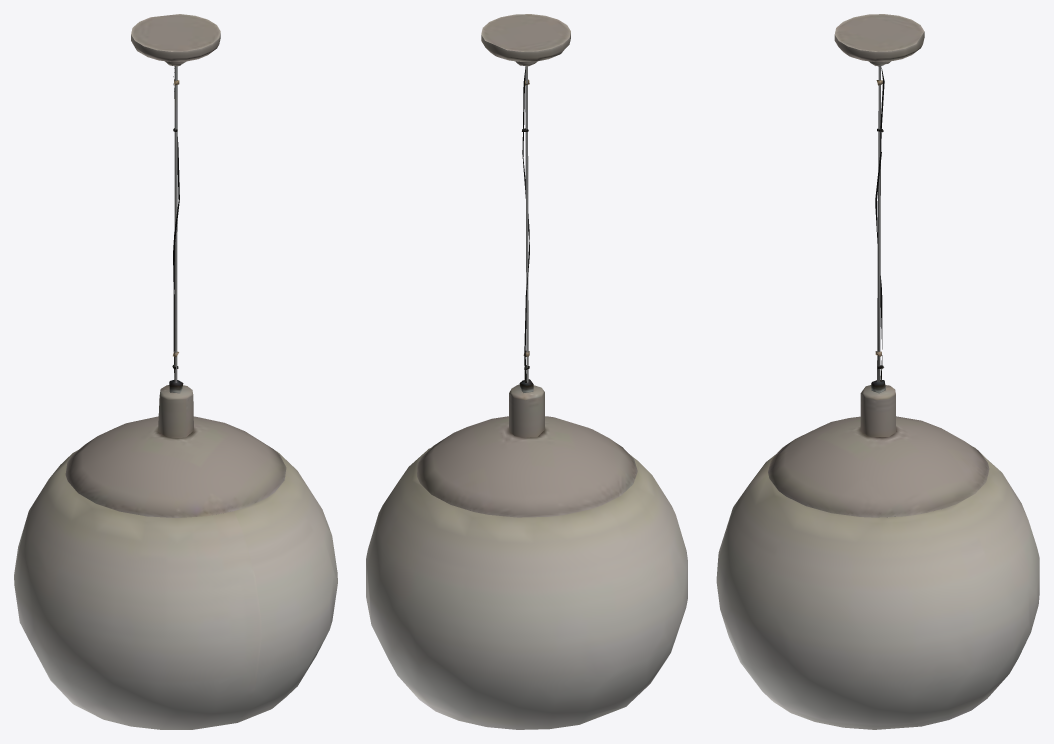
File: modern_ceiling_lamp_01.l.0725869f.glb
The picture shows the model from 3 angles, left to right: view 1: azimuth 30°, elevation 25°; view 2: azimuth 150°, elevation 25°; view 3: azimuth 270°, elevation 25°; orthographic projection.
Parts seen in each view (by area): view 1: modern_ceiling_lamp_01; view 2: modern_ceiling_lamp_01; view 3: modern_ceiling_lamp_01.
Boxes of the visible parts, <box> form: modern_ceiling_lamp_01: <box>14,14,337,729</box>; modern_ceiling_lamp_01: <box>366,14,687,729</box>; modern_ceiling_lamp_01: <box>716,14,1039,729</box>.
Bounding box in the file's own units: 0.4316 × 0.9512 × 0.4298.
Materials: 2 (2 with a texture image).
